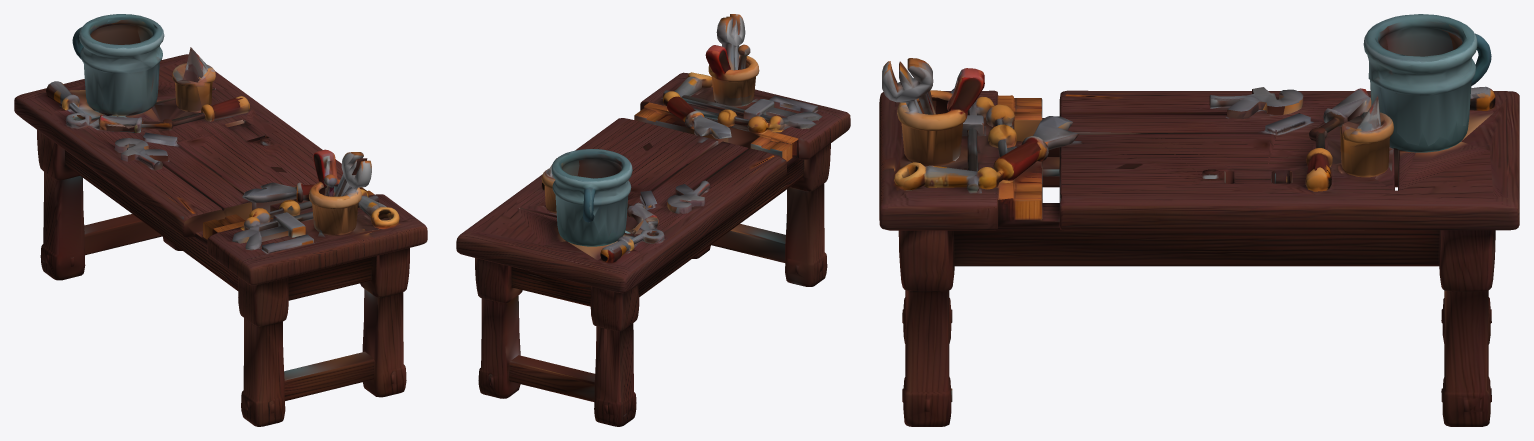
File: 修理台.fbx
The picture shows the model from 3 angles, left to right: view 1: azimuth 30°, elevation 25°; view 2: azimuth 150°, elevation 25°; view 3: azimuth 270°, elevation 25°; orthographic projection. The views are drawn at different scales.
Visible parts, largest first — view 1: texture_pbr_v128; view 2: texture_pbr_v128; view 3: texture_pbr_v128.
Part boxes in pixels (box(x1,y1,x2,y2)): texture_pbr_v128: box(14, 14, 427, 426); texture_pbr_v128: box(456, 14, 850, 426); texture_pbr_v128: box(879, 14, 1519, 426).
Size of the model in its own units: 45.63 by 61.24 by 105.
1 material, 1 textured.
